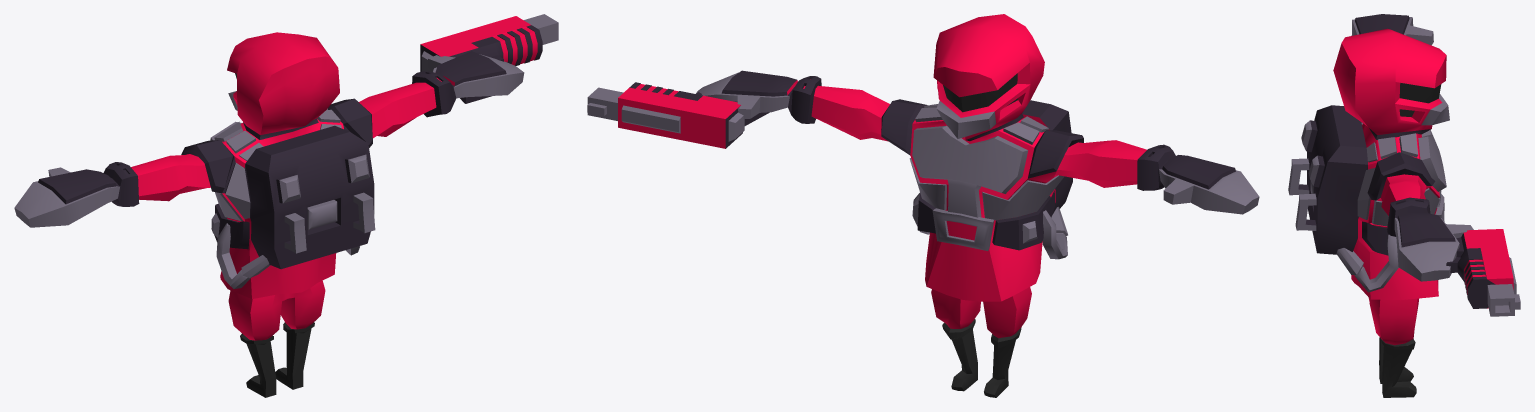
The model's file is soldier1.fbx.
The picture shows the model from 3 angles, left to right: view 1: azimuth 30°, elevation 25°; view 2: azimuth 150°, elevation 25°; view 3: azimuth 270°, elevation 25°; orthographic projection.
Parts seen in each view (by area): view 1: Cube; view 2: Cube; view 3: Cube.
Part boxes in pixels (x1,y1,x2,y2): Cube: (14, 14, 558, 397); Cube: (587, 14, 1259, 397); Cube: (1288, 14, 1520, 397).
Size of the model in its own units: 783 by 450 by 267.
